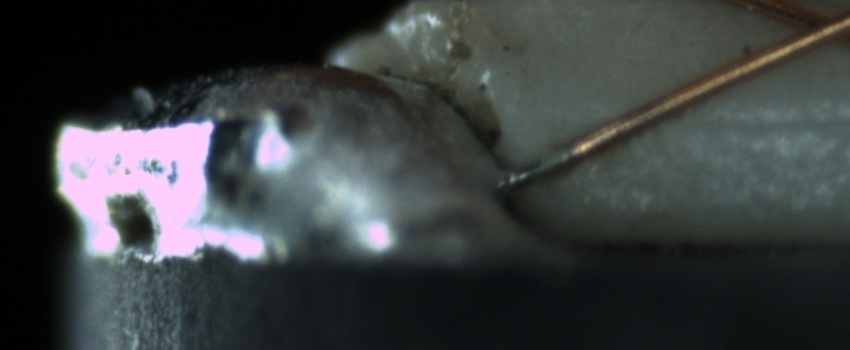CL: (767, 1, 850, 58)
DL: (673, 86, 848, 152)
TS: (502, 141, 577, 190)
TTCW: (497, 130, 591, 189)
